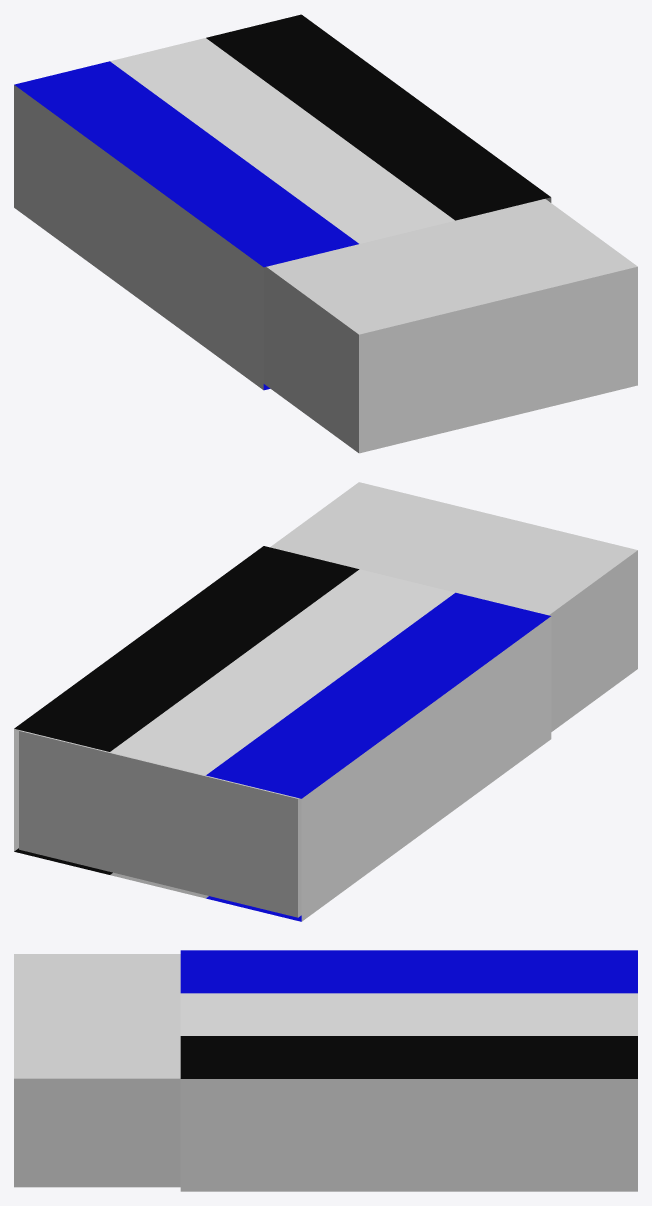
The model's file is 消しゴム.fbx.
The picture shows the model from 3 angles, top to bottom: view 1: azimuth 30°, elevation 25°; view 2: azimuth 150°, elevation 25°; view 3: azimuth 270°, elevation 25°; orthographic projection. The views are drawn at different scales.
Parts seen in each view (by area): view 1: pCube4; view 2: pCube4; view 3: pCube4.
Boxes of the visible parts, bbox=[...] form: pCube4: bbox=[14, 14, 637, 453]; pCube4: bbox=[14, 482, 637, 921]; pCube4: bbox=[14, 950, 637, 1191].
Bounding box in the file's own units: 2.27 × 0.9289 × 4.66.
